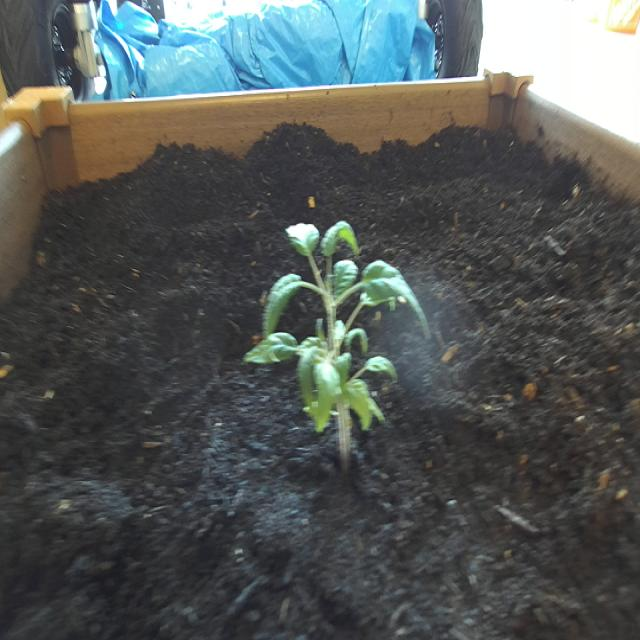Healthy: (235, 207, 437, 490)
